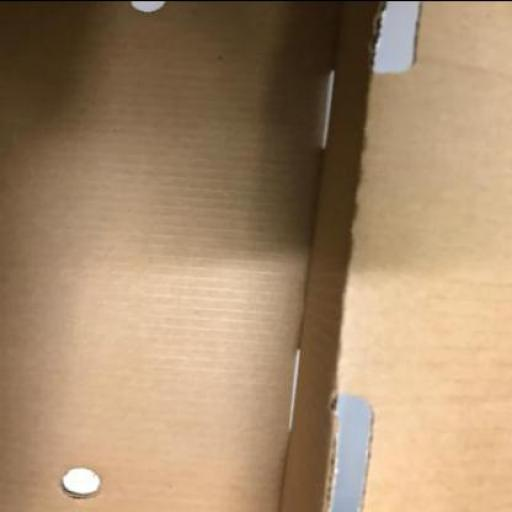cardboard: (0, 1, 512, 511), (277, 1, 512, 511)
